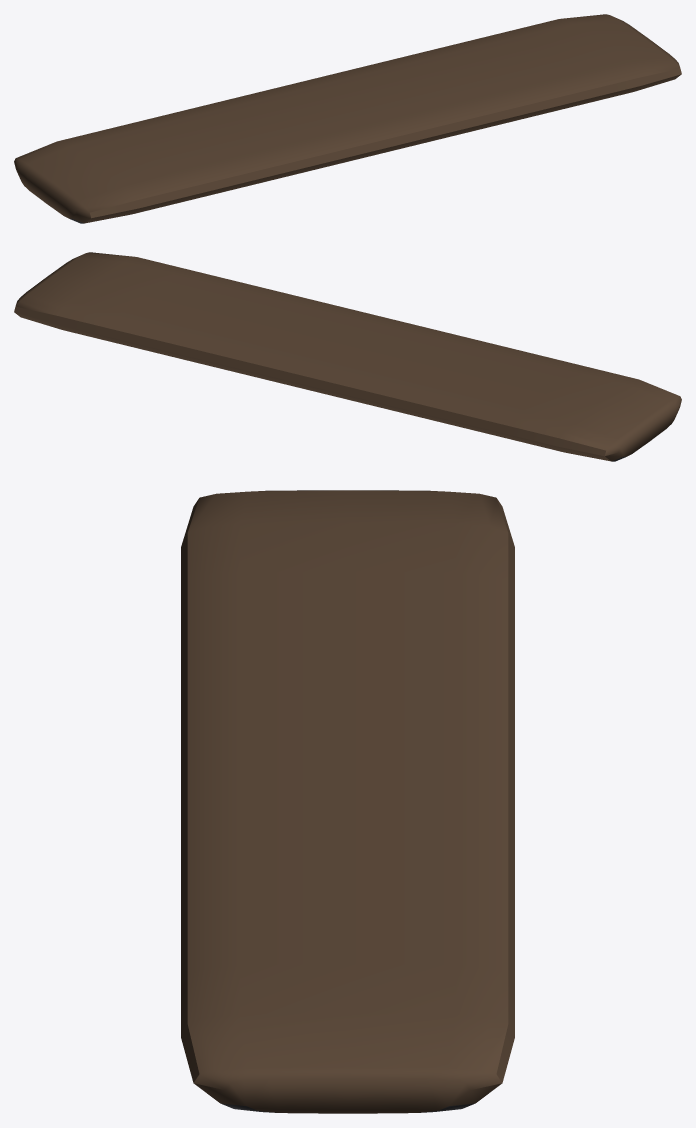
The model's file is brat_lod1.glb.
3 renders of one model, top to bottom at view 1: azimuth 30°, elevation 25°; view 2: azimuth 150°, elevation 25°; view 3: azimuth 270°, elevation 25°, orthographic. The views are drawn at different scales.
Parts seen in each view (by area): view 1: brat_lod1; view 2: brat_lod1; view 3: brat_lod1.
Part boxes in pixels (x1=…): brat_lod1: x1=14, y1=14, x2=681, y2=223; brat_lod1: x1=14, y1=252, x2=681, y2=461; brat_lod1: x1=181, y1=490, x2=514, y2=1113.
Bounding box in the file's own units: 1 × 0.045 × 0.2399.
